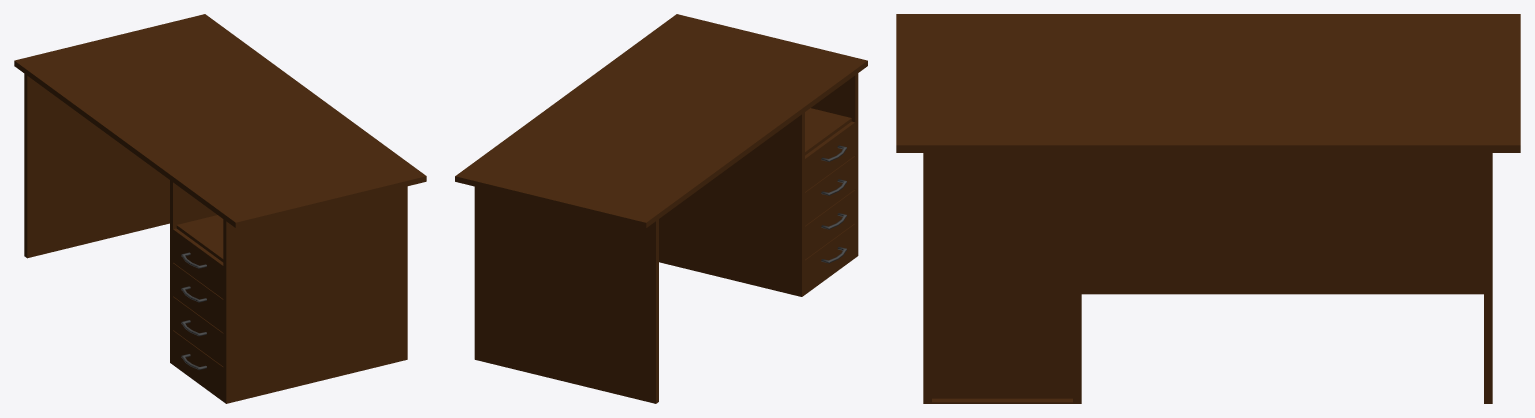
The model's file is escritorio.FBX.
3 views of the same model, side by side, from view 1: azimuth 30°, elevation 25°; view 2: azimuth 150°, elevation 25°; view 3: azimuth 270°, elevation 25° (orthographic). The views are drawn at different scales.
Parts seen in each view (by area): view 1: Base, Cajon1, Cajon3, Cajon4, Cajon2; view 2: Base, Cajon1, Cajon4, Cajon3, Cajon2; view 3: Base.
Part boxes in pixels (x1,y1,x2,y2): Base: (14, 14, 426, 403); Cajon1: (173, 228, 223, 298); Cajon3: (173, 296, 223, 366); Cajon4: (173, 330, 223, 399); Cajon2: (173, 263, 223, 332); Base: (455, 14, 867, 403); Cajon1: (805, 121, 855, 191); Cajon4: (805, 223, 855, 293); Cajon3: (805, 190, 855, 259); Cajon2: (805, 156, 855, 225); Base: (896, 14, 1520, 403).
Bounding box in the file's own units: 83.95 × 75.01 × 160.
